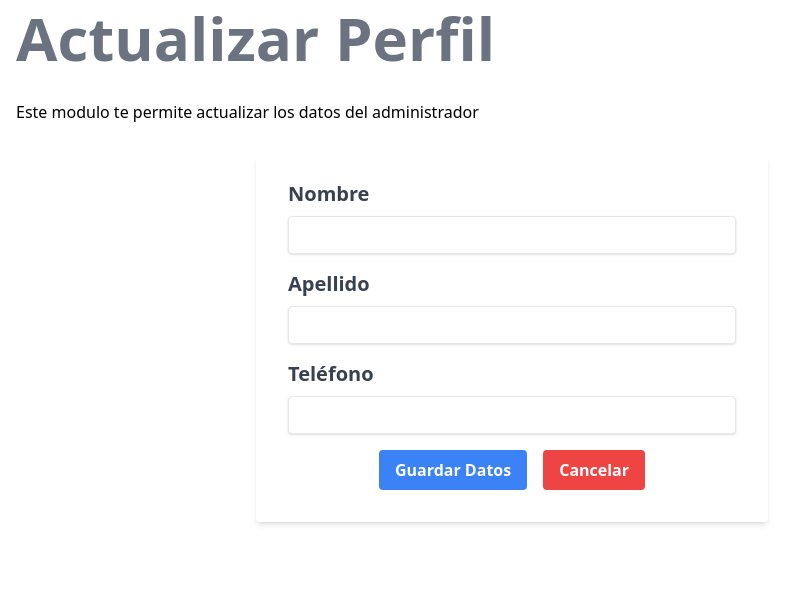
Test: ActualizarPerfil › Actualización exitosa del perfil
Type "John" into the field labelled "Nombre" at (512, 235), box 288,216 -> 736,254
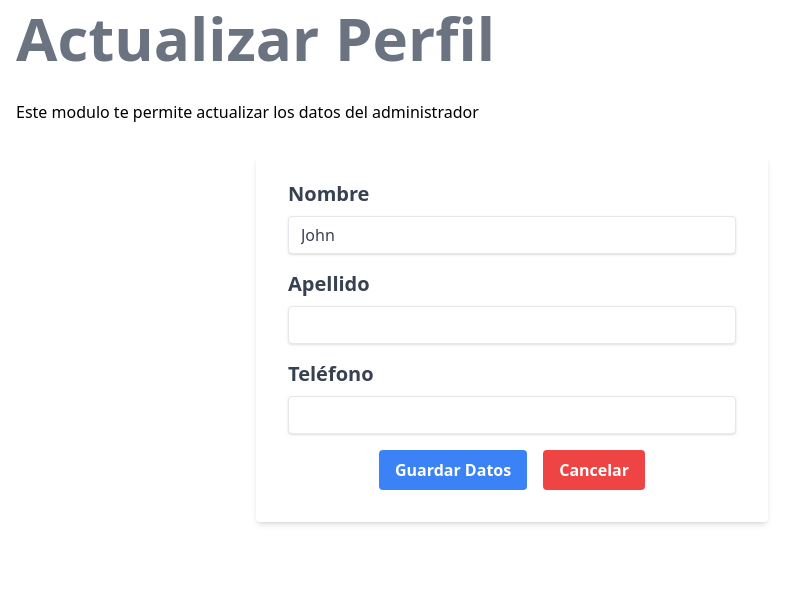
Type "Doe" into the field labelled "Apellido" at (512, 325), box 288,306 -> 736,344
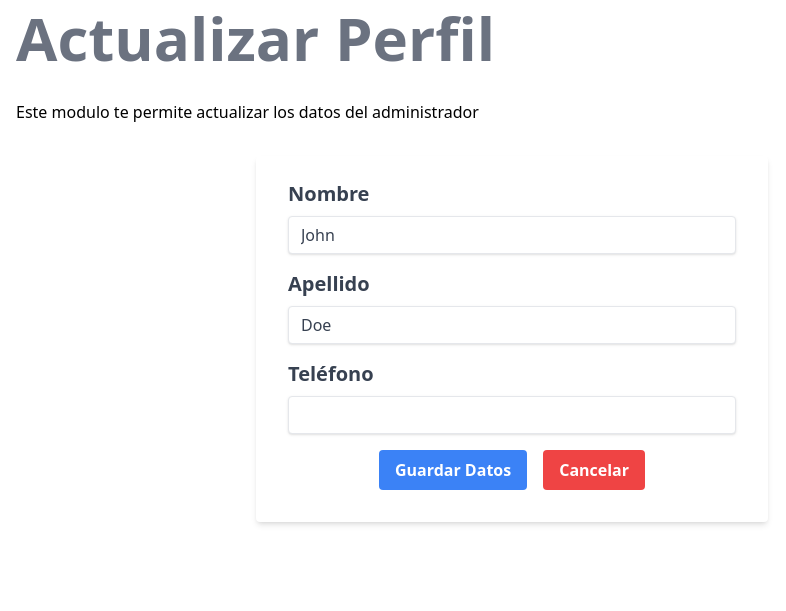
Type "1234567890" into the field labelled "Teléfono" at (512, 415), box 288,396 -> 736,434
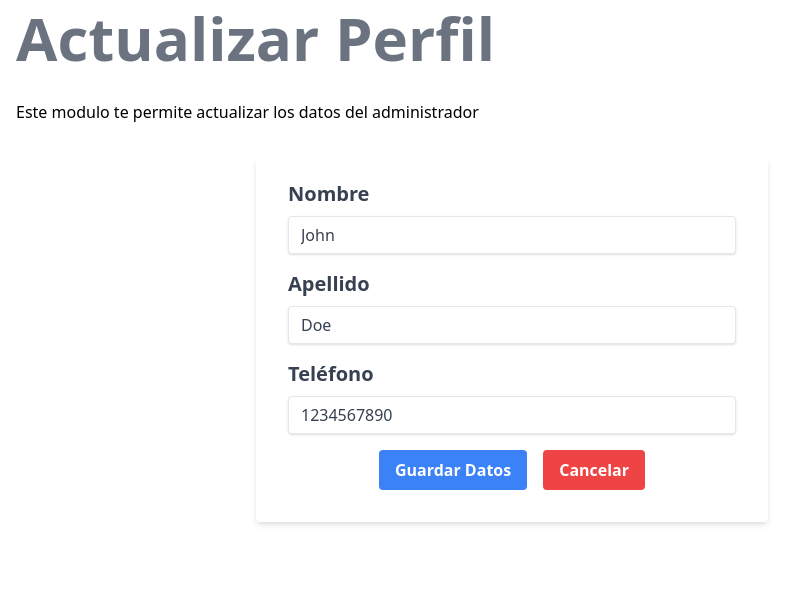
Click the button "Guardar Datos" at (453, 470), box 379,450 -> 527,490
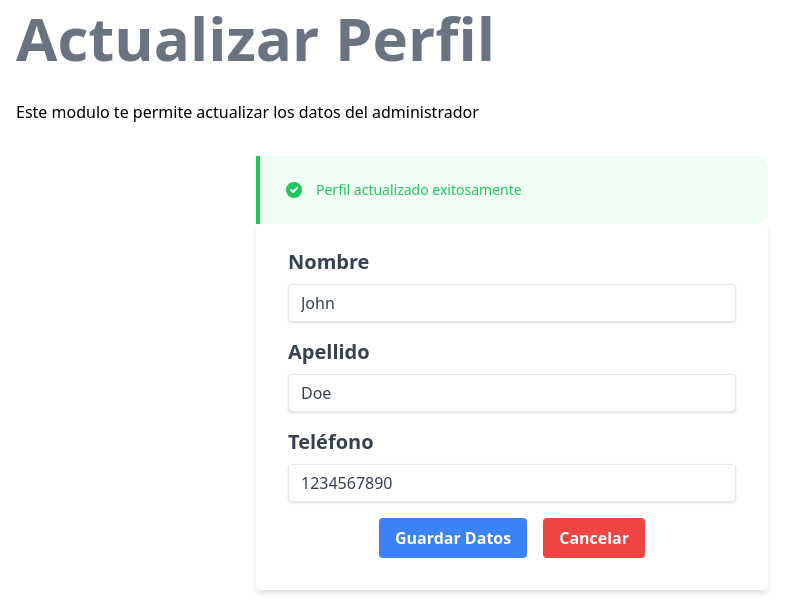
Check: the text "Perfil actualizado exitosamente" is shown, box 316,180 -> 522,200
